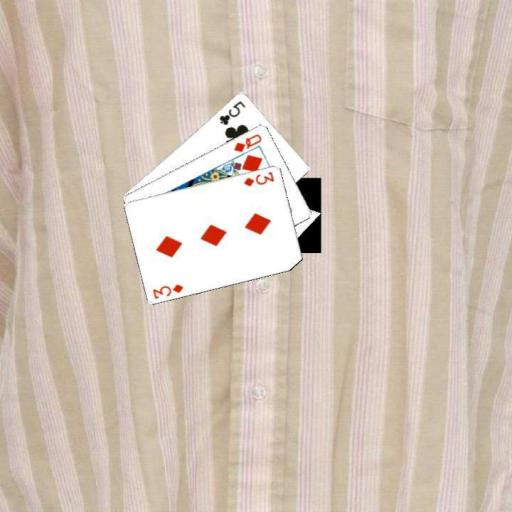card-corner: (216, 98, 247, 126), (231, 130, 263, 154), (240, 168, 276, 188), (150, 281, 185, 300)
